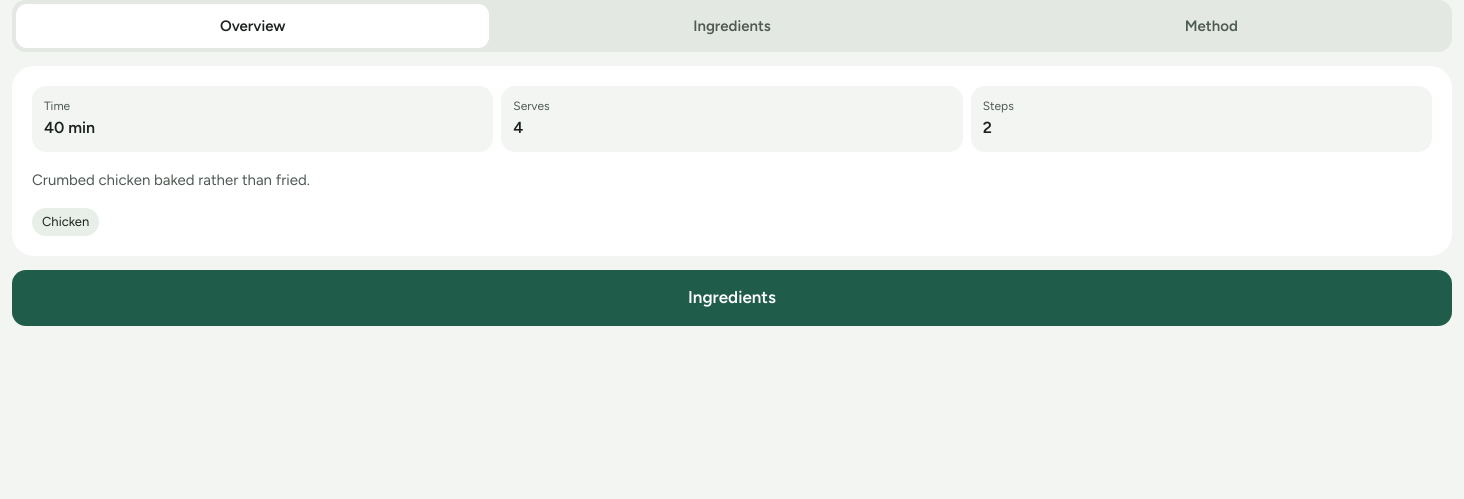
RecipePages › moves on with the button at the bottom
The image size is (1464, 499).
Click the button "Ingredients". click: (732, 298)
box: 12,270 -> 1452,326
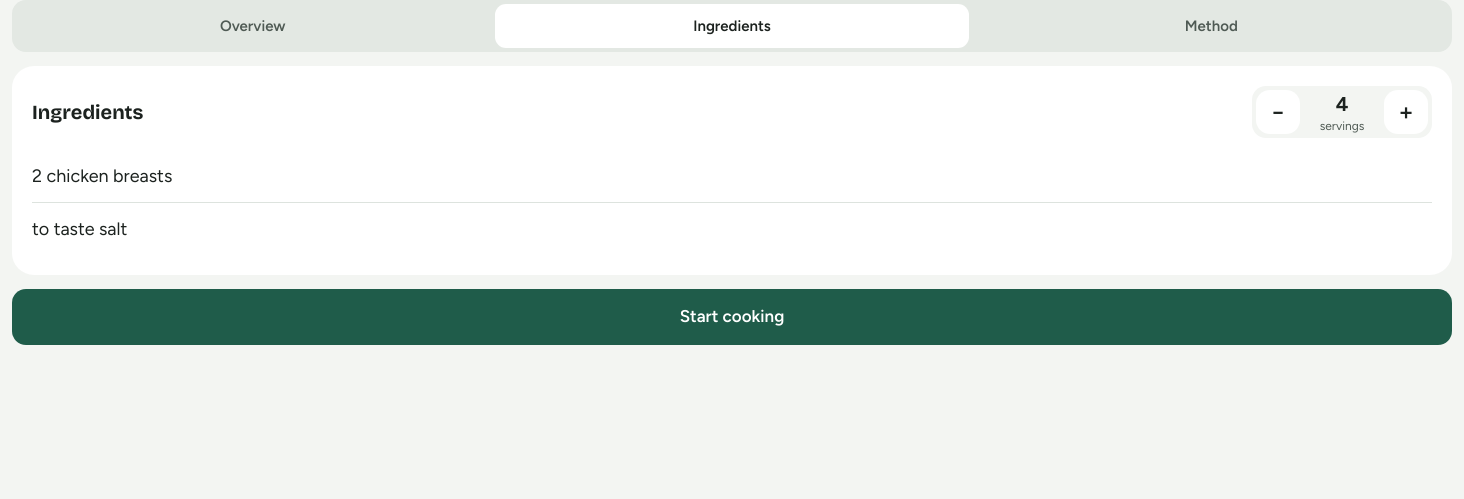
Click the button "Start cooking". click: (732, 317)
box: 12,289 -> 1452,345
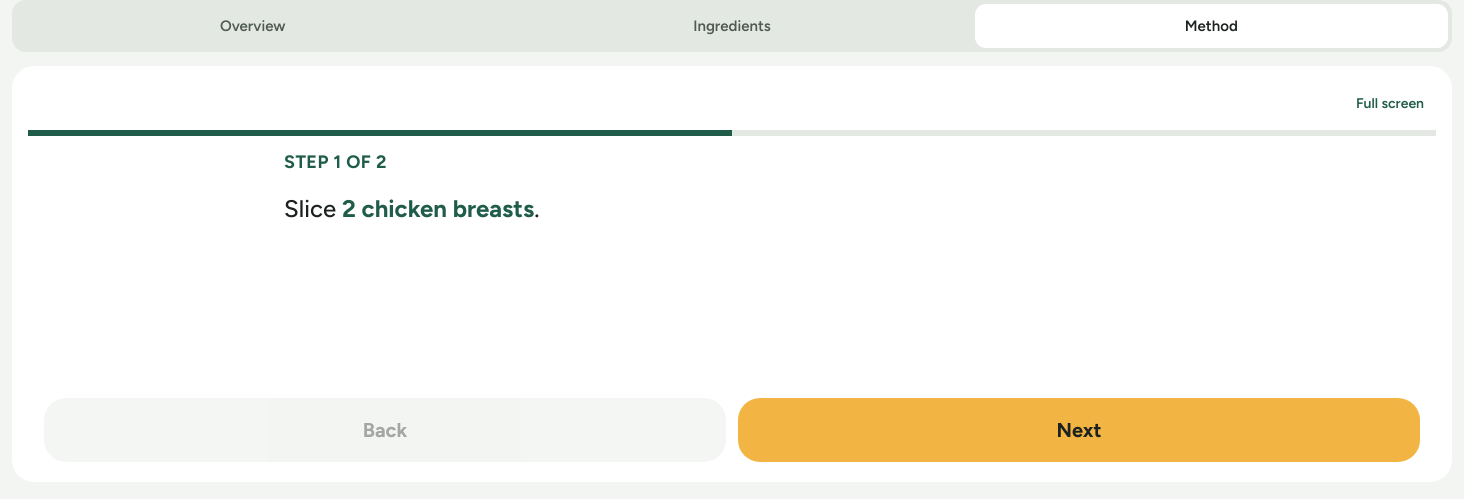
Expected: the text with test id "step-counter" reads "Step 1 of 2", 284,151 -> 387,173
